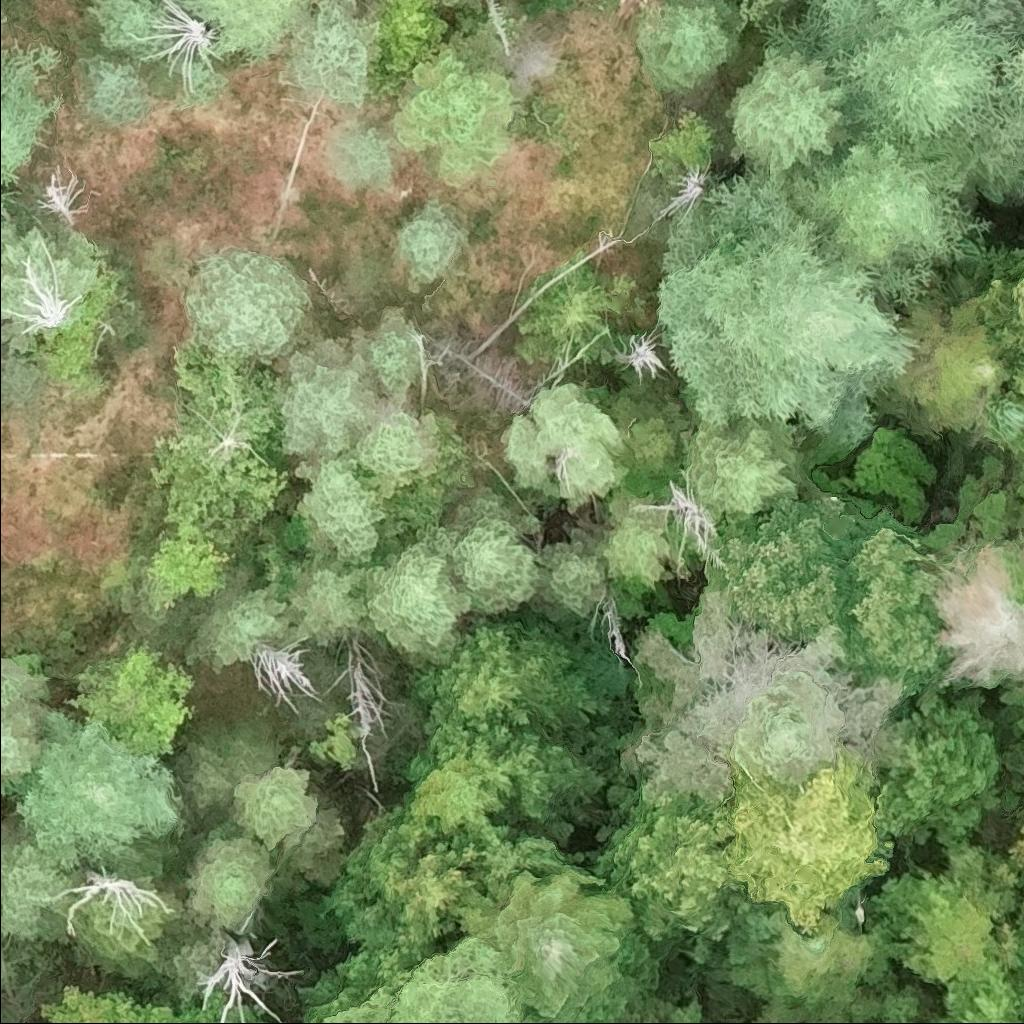crown: (654, 168, 921, 449), (628, 583, 906, 809), (705, 486, 950, 702), (758, 0, 1016, 158), (782, 134, 992, 307), (712, 750, 894, 939), (452, 865, 668, 1023), (151, 329, 290, 545), (16, 709, 182, 872), (407, 618, 615, 739), (587, 783, 744, 942), (319, 799, 478, 953), (873, 274, 1013, 436), (412, 721, 612, 833), (880, 684, 1004, 845), (717, 899, 886, 1015), (725, 43, 858, 179), (393, 50, 525, 186), (313, 940, 528, 1023), (412, 483, 546, 616), (501, 380, 630, 511), (182, 244, 315, 364), (62, 637, 197, 755), (277, 339, 404, 459), (361, 539, 472, 668), (684, 418, 820, 522), (932, 535, 1023, 689), (179, 814, 276, 934), (291, 455, 389, 564), (579, 483, 676, 591), (339, 408, 445, 506), (183, 579, 293, 669), (292, 0, 381, 111), (0, 44, 65, 195), (515, 265, 613, 364), (898, 895, 1005, 985), (185, 0, 325, 67), (639, 0, 738, 93), (0, 812, 71, 941), (129, 0, 225, 95), (365, 0, 452, 99), (195, 932, 289, 1023), (227, 764, 321, 855), (64, 865, 169, 946), (629, 483, 728, 567), (283, 554, 369, 649), (148, 522, 240, 605), (946, 936, 1023, 1023), (35, 984, 201, 1023), (346, 309, 417, 399), (530, 538, 603, 620), (397, 199, 466, 285), (970, 93, 1023, 200), (245, 637, 317, 714), (980, 273, 1023, 394), (87, 0, 173, 59), (171, 732, 231, 816), (0, 709, 52, 800), (451, 839, 562, 879), (651, 107, 716, 175), (214, 721, 289, 779), (611, 319, 675, 385), (658, 158, 721, 225), (329, 124, 391, 184), (88, 61, 150, 119), (979, 388, 1023, 463), (0, 652, 49, 719), (665, 994, 725, 1023), (998, 40, 1023, 97), (1009, 823, 1023, 869), (1015, 457, 1023, 508), (443, 0, 457, 6), (294, 1019, 314, 1023)
